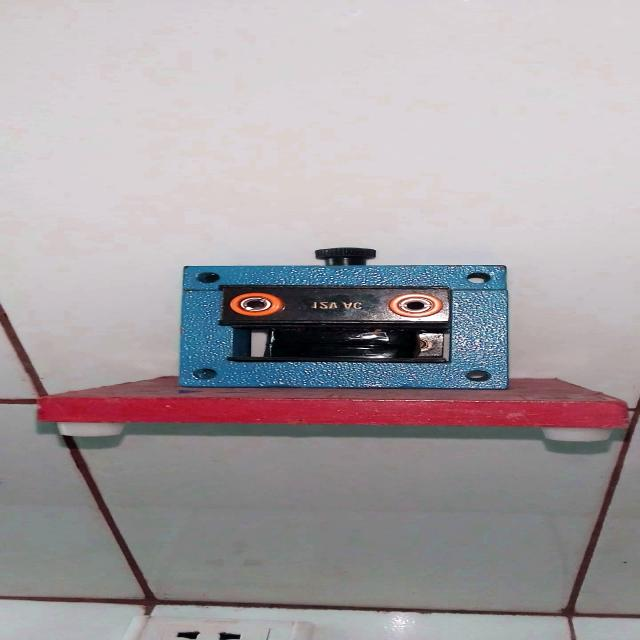Transformer Demo: (29, 241, 620, 441)
